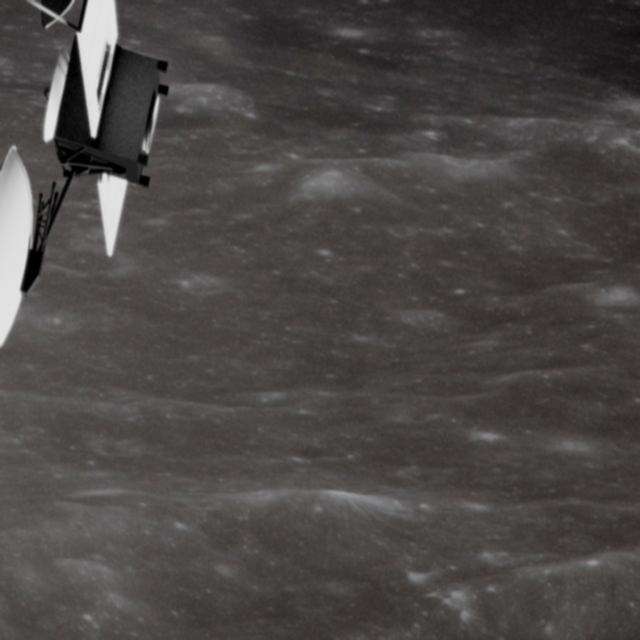satellite: (0, 5, 215, 361)
